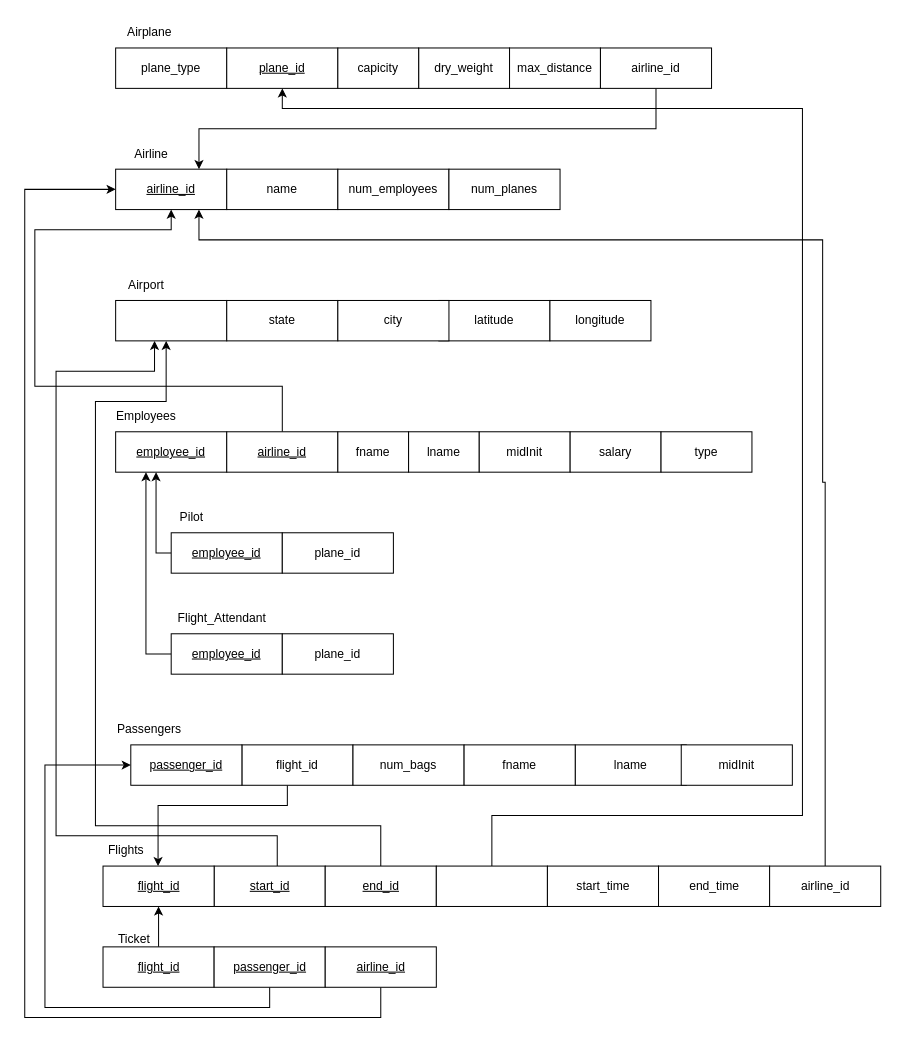
This 899x1043 diagram has some shape labels left out. The box of each missing label's shape, as (x1, y1, x2, y2) in pixels:
airplane_id: (435, 865, 547, 906)
airport_id: (115, 299, 227, 341)
